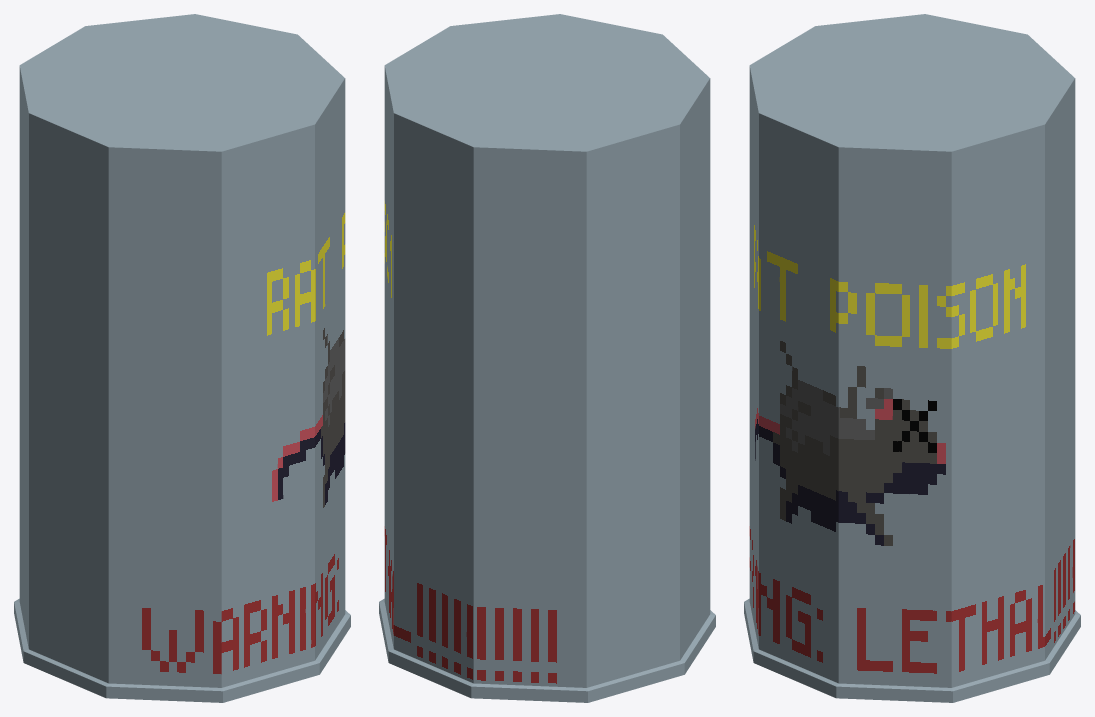
The model's file is ratpoison.glb.
3 views of the same model, side by side, from view 1: azimuth 30°, elevation 25°; view 2: azimuth 150°, elevation 25°; view 3: azimuth 270°, elevation 25° (orthographic).
Visible parts, largest first — view 1: Cylinder; view 2: Cylinder; view 3: Cylinder.
Part boxes in pixels (x1,y1,x2,y2): Cylinder: [14, 14, 350, 702]; Cylinder: [379, 14, 715, 702]; Cylinder: [744, 14, 1080, 702].
Size of the model in its own units: 1.07 by 1.92 by 1.07.
Materials: 1 (1 with a texture image).
